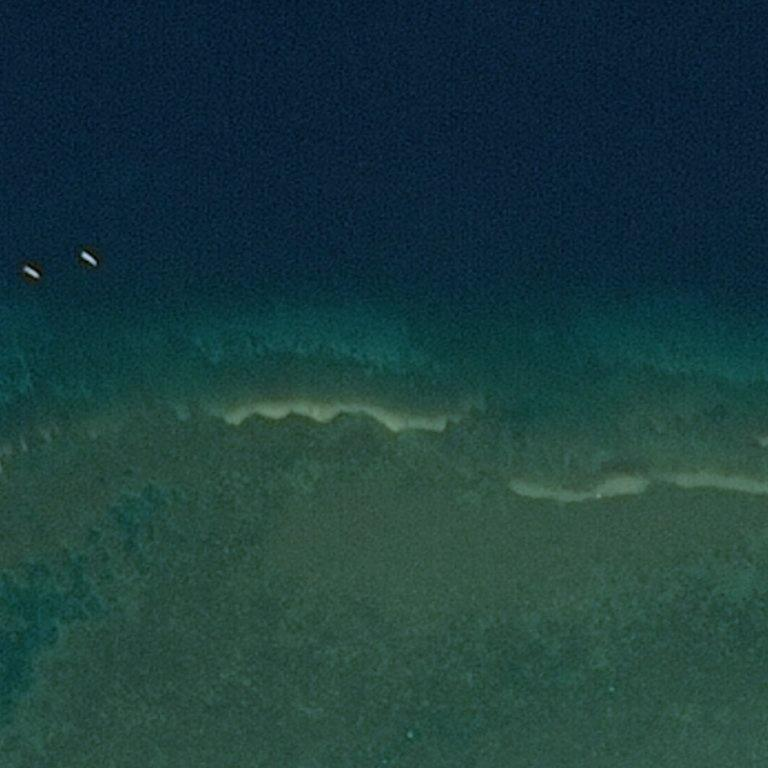ship: (21, 263, 42, 282), (0, 248, 17, 269), (95, 264, 98, 266), (38, 277, 40, 279), (82, 236, 85, 237), (25, 266, 28, 267), (80, 0, 82, 1), (1, 39, 1, 41)
